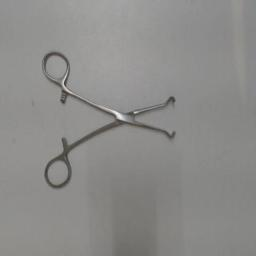Babcock Tissue Forceps: (40, 45, 180, 195)
